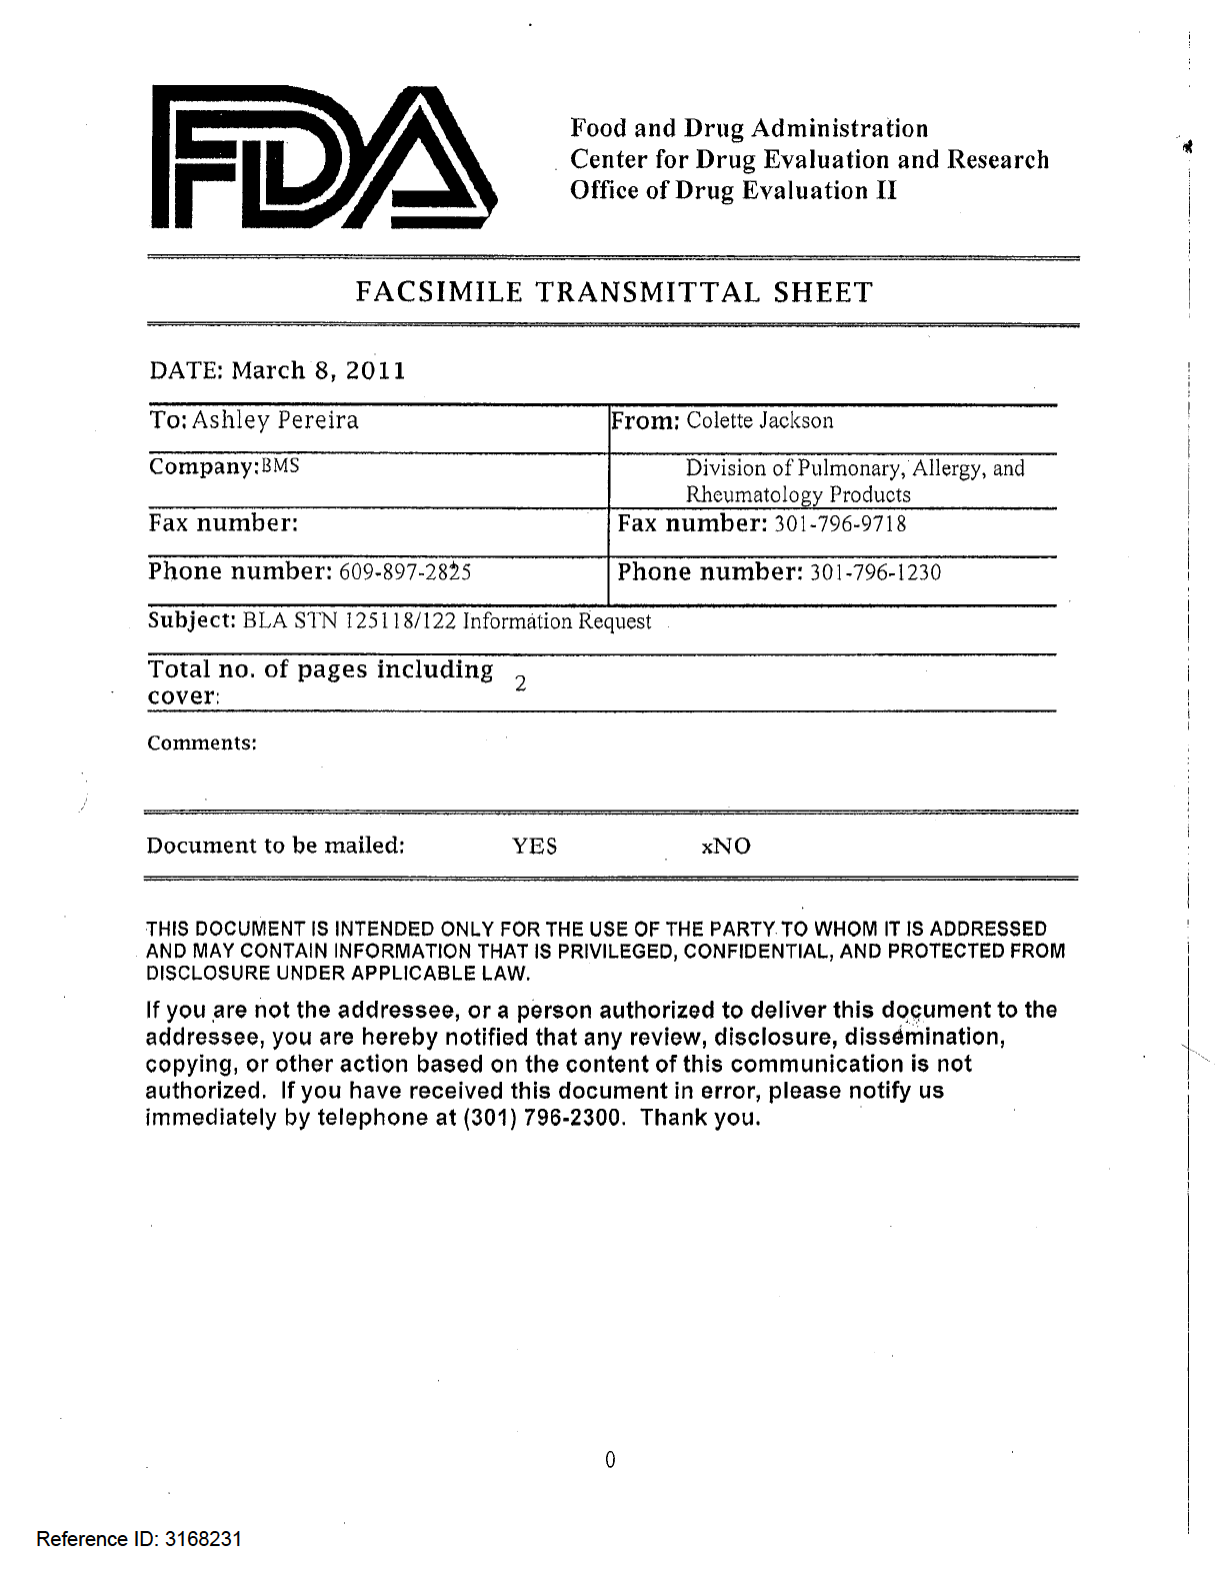partial_lined_merged_cells: (145, 318, 1084, 886)
